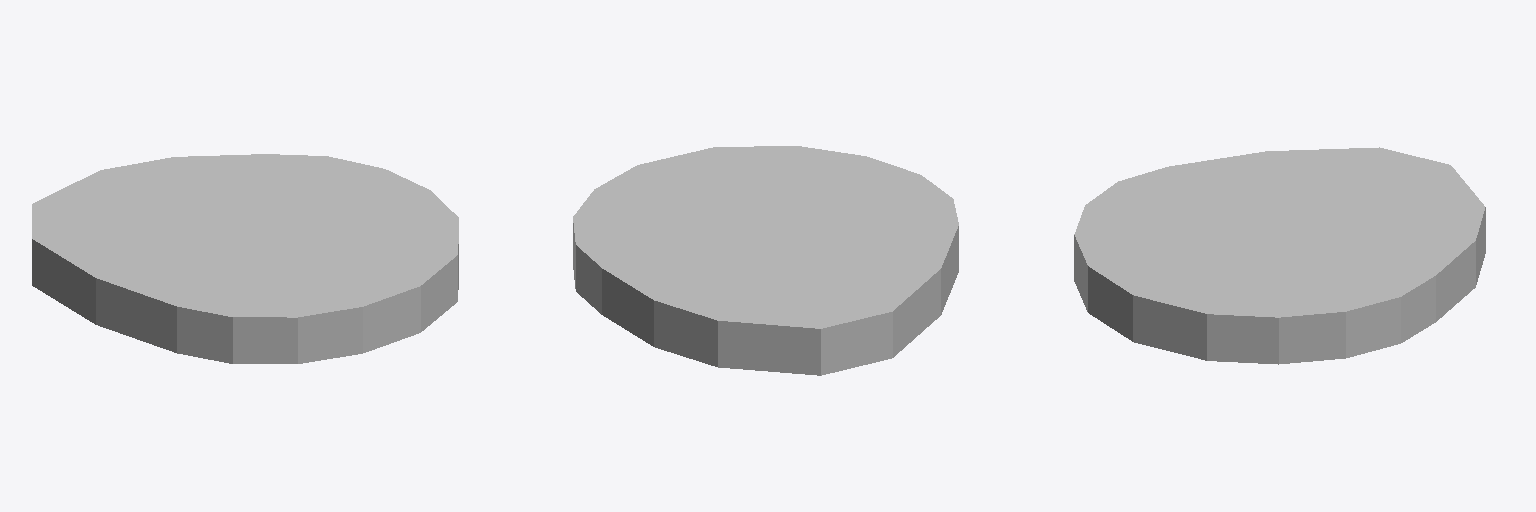
Rendered from FloorRock4.obj.
The picture shows the model from 3 angles: view 1: azimuth 30°, elevation 25°; view 2: azimuth 150°, elevation 25°; view 3: azimuth 270°, elevation 25°; orthographic projection.
Parts seen in each view (by area): view 1: Circle.002; view 2: Circle.002; view 3: Circle.002.
Part boxes in pixels (x1,y1,x2,y2): Circle.002: (32,154,458,363); Circle.002: (573,146,958,375); Circle.002: (1074,147,1485,364).
Size of the model in its own units: 7.79 by 1 by 7.96.